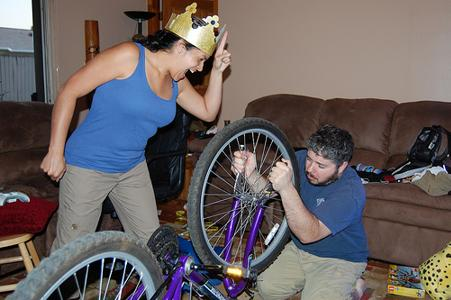person: (232, 125, 370, 300)
